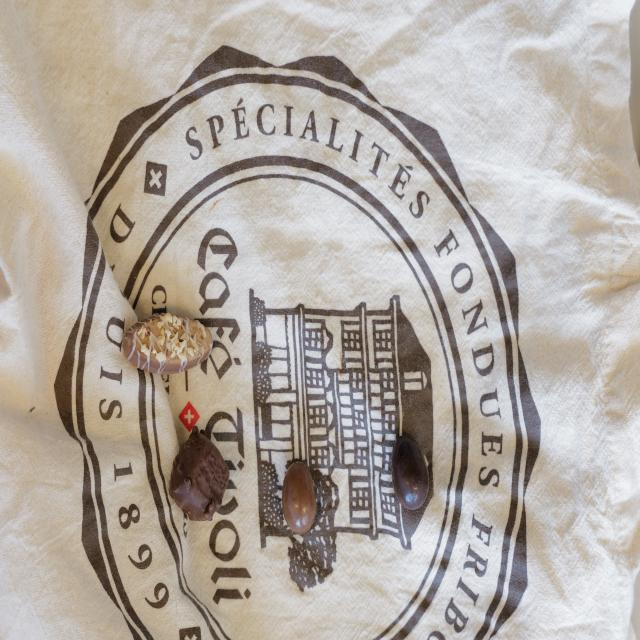Amandina: (123, 312, 213, 376)
Jelly_Black: (392, 436, 428, 511)
Jelly_Milk: (284, 461, 316, 536)
Tentation_noir: (168, 424, 230, 523)
